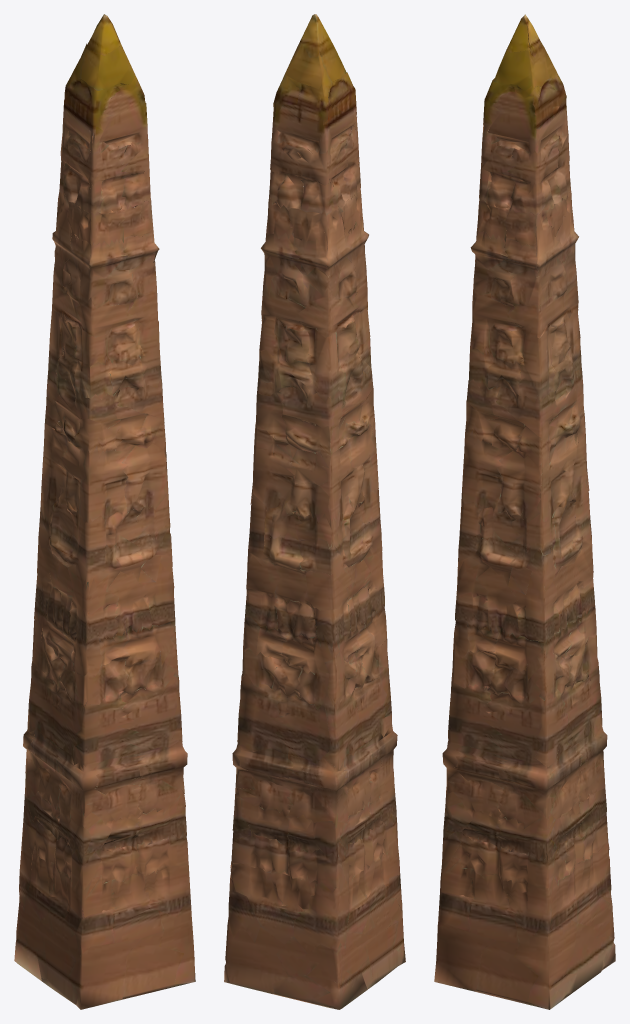
File: obelisk_dec.glb
The picture shows the model from 3 angles, left to right: view 1: azimuth 30°, elevation 25°; view 2: azimuth 150°, elevation 25°; view 3: azimuth 330°, elevation 25°; orthographic projection.
Parts seen in each view (by area): view 1: Mesh_0.005; view 2: Mesh_0.005; view 3: Mesh_0.005.
Boxes of the visible parts, x1,y1,x2,y2 form: Mesh_0.005: (14,14,195,1009); Mesh_0.005: (224,14,405,1009); Mesh_0.005: (434,14,615,1009).
Bounding box in the file's own units: 0.2424 × 1.91 × 0.2412.
1 material, 1 textured.
